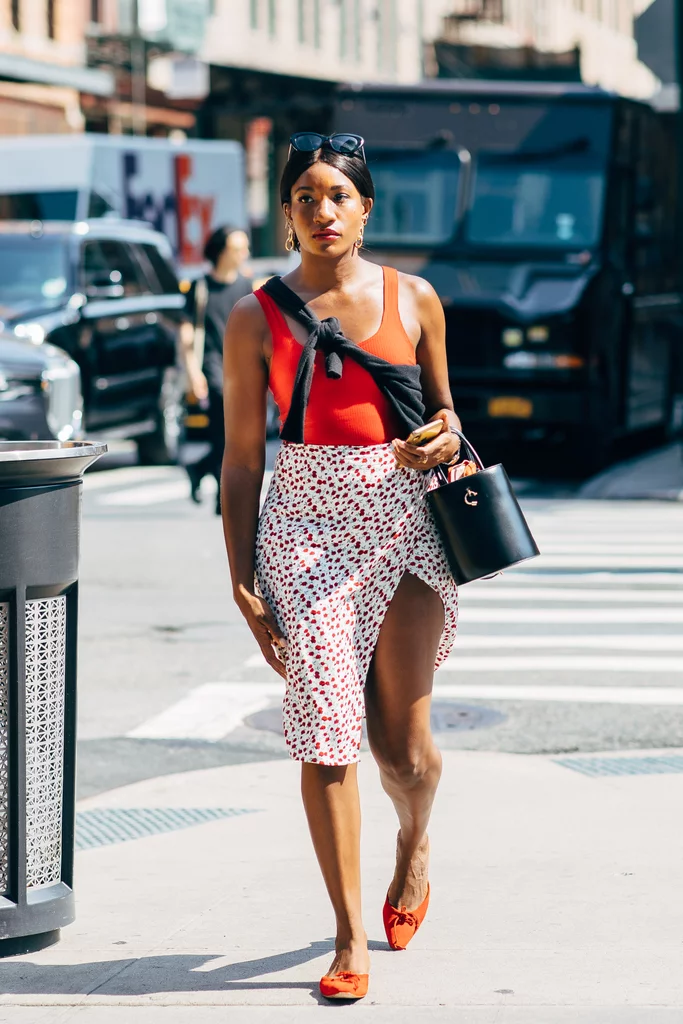person: (215, 128, 546, 1007)
